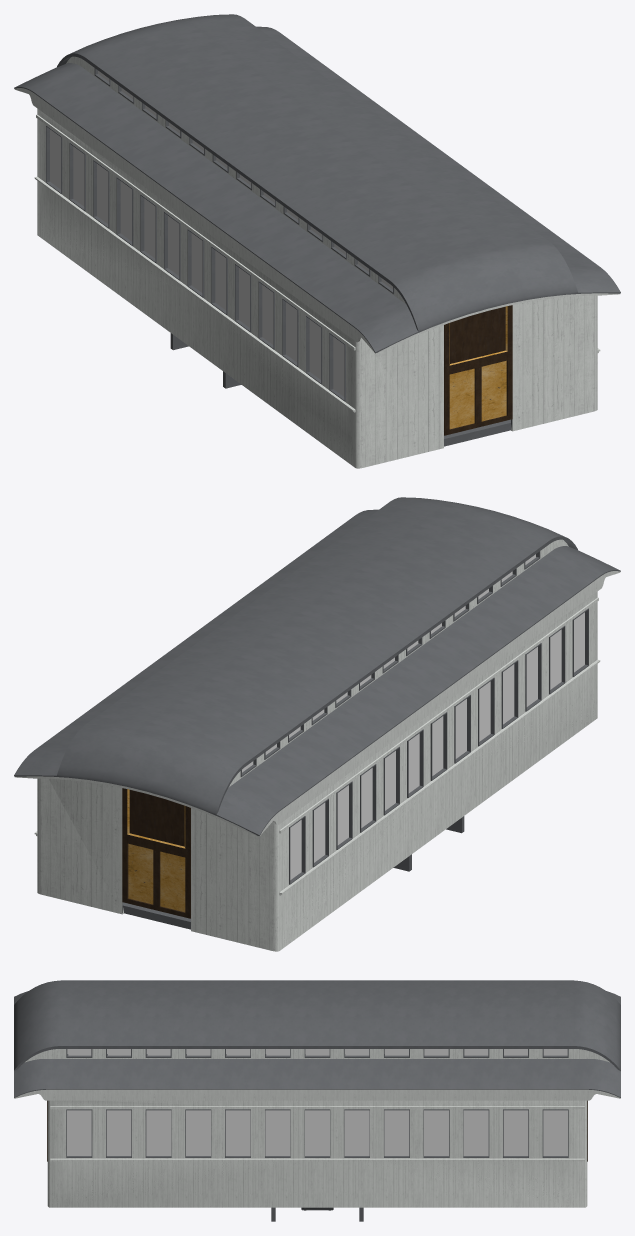
Rendered from vagone.fbx.
3 renders of one model, top to bottom at view 1: azimuth 30°, elevation 25°; view 2: azimuth 150°, elevation 25°; view 3: azimuth 270°, elevation 25°, orthographic. The views are drawn at different scales.
Parts seen in each view (by area): view 1: Outside_frame, Outside_walls, windows, door_anterior, window_frames, Little_windows; view 2: Outside_frame, Outside_walls, windows, door_posterior, window_frames, Little_windows; view 3: Outside_frame, Outside_walls, windows, window_frames, Little_windows.
Part boxes in pixels (x1,y1,x2,y2): Outside_frame: (14,14,620,446); Outside_walls: (14,56,619,468); windows: (50,129,344,396); door_anterior: (444,305,512,435); window_frames: (46,68,394,401); Little_windows: (98,70,392,289); Outside_frame: (14,497,620,929); Outside_walls: (15,539,620,951); windows: (290,612,584,879); door_posterior: (122,788,190,918); window_frames: (240,551,588,884); Little_windows: (242,554,535,772); Outside_frame: (14,980,620,1221); Outside_walls: (14,1049,620,1207); windows: (67,1049,567,1155); window_frames: (66,1049,568,1157); Little_windows: (68,1049,567,1055).
Bounding box in the file's own units: 475 × 363 × 1202.
